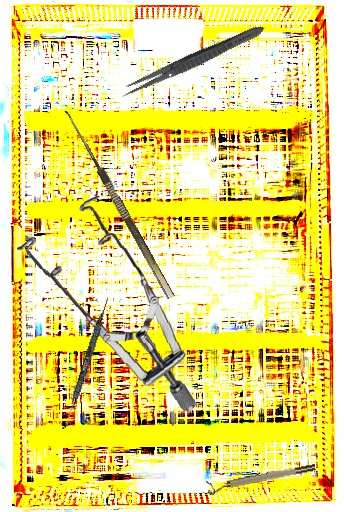Dressing Forceps: (118, 20, 268, 102)
Fixation Ring: (206, 462, 317, 496)
Hook Surgical: (54, 107, 175, 306)
Spatula Surgical: (62, 296, 110, 432)
Speculum: (13, 191, 198, 421)
